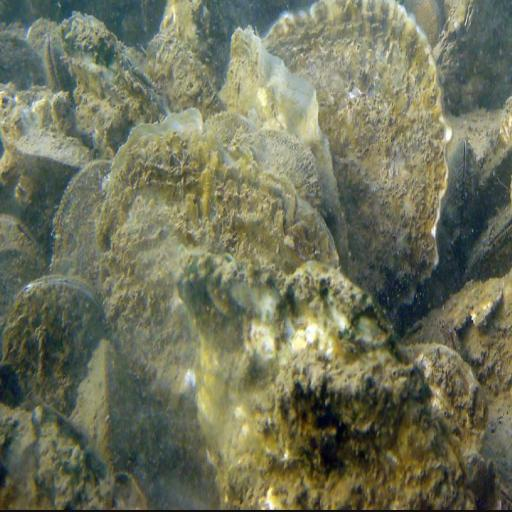Oyster-Closed: (187, 259, 468, 512), (263, 7, 453, 316)
Oyster-Open: (105, 109, 349, 512), (220, 35, 349, 274), (66, 20, 176, 159)
